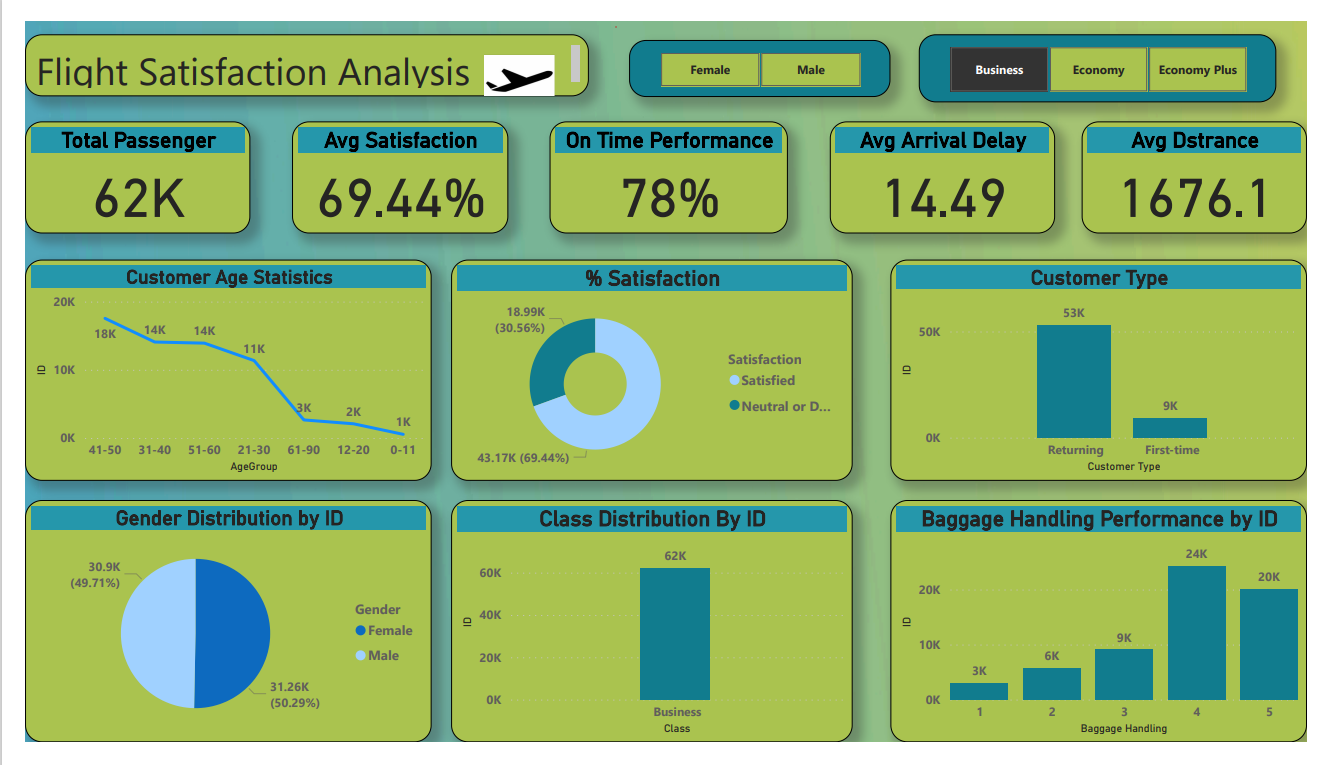

What the dashboard file says about the page in this screenshot:
{"tool":"powerbi","page":{"name":"Page 1","canvas":[1280,720],"ordinal":0},"visuals":[{"type":"card","title":"Total Passenger","fields":{"Values":["airline_passenger_satisfaction.total pasger"]},"box":[0,100.2,225,111.6],"z":0},{"type":"card","title":"Avg Satisfaction","fields":{"Values":["airline_passenger_satisfaction.avgSat"]},"box":[266.6,100.2,215.5,111.6],"z":1000},{"type":"card","title":"On Time Performance","fields":{"Values":["airline_passenger_satisfaction.ontimeperformance"]},"box":[523.7,100.2,238.2,111.6],"z":2000},{"type":"card","title":"Avg Dstrance","fields":{"Values":["Avg(airline_passenger_satisfaction.Flight Distance)"]},"box":[1055,100.2,225,111.6],"z":3000},{"type":"card","title":"Avg Arrival Delay","fields":{"Values":["Avg(airline_passenger_satisfaction.Arrival Delay)"]},"box":[803.5,100.2,225,111.6],"z":4000},{"type":"textbox","box":[0,13.2,563.4,62.4],"z":5000},{"type":"lineChart","title":" Customer Age Statistics","fields":{"Category":["airline_passenger_satisfaction.AgeGroup","airline_passenger_satisfaction.SatisfactionCount"],"Y":["CountNonNull(airline_passenger_satisfaction.ID)"]},"box":[0,238.2,406.5,221.2],"z":6000},{"type":"donutChart","title":"% Satisfaction","fields":{"Y":["CountNonNull(airline_passenger_satisfaction.ID)"],"Category":["airline_passenger_satisfaction.Satisfaction"]},"box":[425.4,238.2,400.8,221.2],"z":7000},{"type":"clusteredColumnChart","title":" Customer Type ","fields":{"Category":["airline_passenger_satisfaction.Customer Type"],"Y":["CountNonNull(airline_passenger_satisfaction.ID)"]},"box":[864,238.2,416,221.2],"z":8000},{"type":"pieChart","title":"Gender Distribution by ID","fields":{"Y":["CountNonNull(airline_passenger_satisfaction.ID)"],"Category":["airline_passenger_satisfaction.Gender"]},"box":[0,478.3,406.5,242],"z":9000},{"type":"clusteredColumnChart","title":"Class Distribution By ID ","fields":{"Category":["airline_passenger_satisfaction.Class"],"Y":["CountNonNull(airline_passenger_satisfaction.ID)"]},"box":[425.4,478.3,400.8,242],"z":10000},{"type":"clusteredColumnChart","title":"Baggage Handling Performance by ID","fields":{"Y":["CountNonNull(airline_passenger_satisfaction.ID)"],"Category":["airline_passenger_satisfaction.Baggage Handling"]},"box":[864,478.3,416,242],"z":11000},{"type":"slicer","fields":{"Values":["airline_passenger_satisfaction.Gender"]},"box":[603.1,18.9,260.9,56.7],"z":11001},{"type":"slicer","fields":{"Values":["airline_passenger_satisfaction.Class"]},"box":[892.4,13.2,357.3,68.1],"z":11002},{"type":"image","box":[374.4,0,300.6,79.4],"z":11003}]}

Visuals, with their boxes in screenshot pixels (x1, y1, x2, y2), scaled from the page's 1280x720 canvas onto the 1327x765 screenshot:
"Total Passenger" card: bbox=[0, 106, 233, 225]
"Avg Satisfaction" card: bbox=[276, 106, 500, 225]
"On Time Performance" card: bbox=[543, 106, 790, 225]
"Avg Dstrance" card: bbox=[1094, 106, 1326, 225]
"Avg Arrival Delay" card: bbox=[833, 106, 1066, 225]
textbox: bbox=[0, 14, 584, 80]
" Customer Age Statistics" lineChart: bbox=[0, 253, 421, 488]
"% Satisfaction" donutChart: bbox=[441, 253, 857, 488]
" Customer Type " clusteredColumnChart: bbox=[896, 253, 1326, 488]
"Gender Distribution by ID" pieChart: bbox=[0, 508, 421, 764]
"Class Distribution By ID " clusteredColumnChart: bbox=[441, 508, 857, 764]
"Baggage Handling Performance by ID" clusteredColumnChart: bbox=[896, 508, 1326, 764]
slicer - airline_passenger_satisfaction.Gender: bbox=[625, 20, 896, 80]
slicer - airline_passenger_satisfaction.Class: bbox=[925, 14, 1296, 86]
image: bbox=[388, 0, 700, 84]
